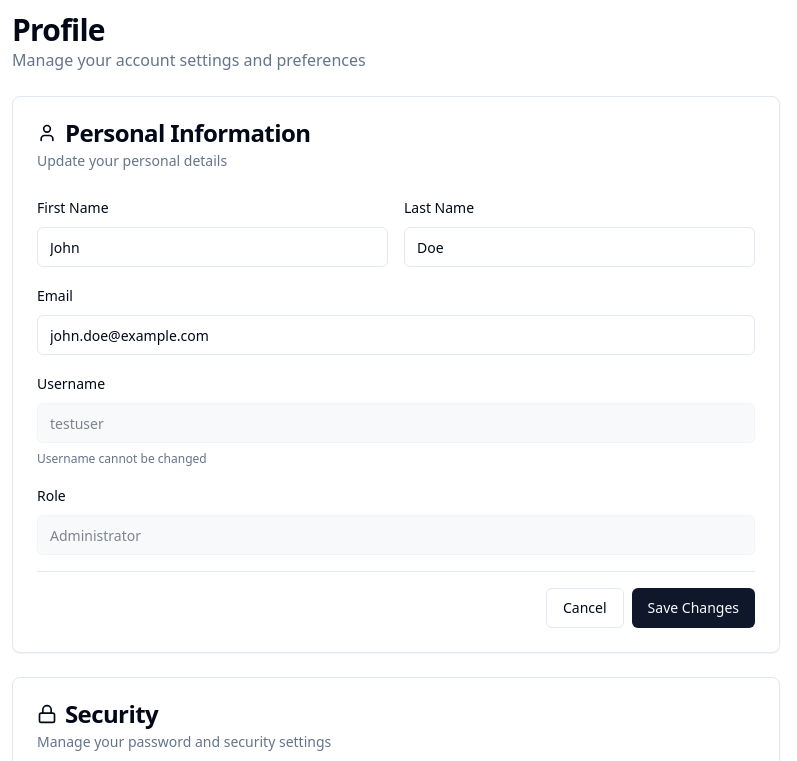
it: ProfilePage › validates email format
The image size is (797, 761).
Type "invalid-email" into the field labelled "Email".
click(396, 335); type("invalid-email")  # box [37,315,755,355]
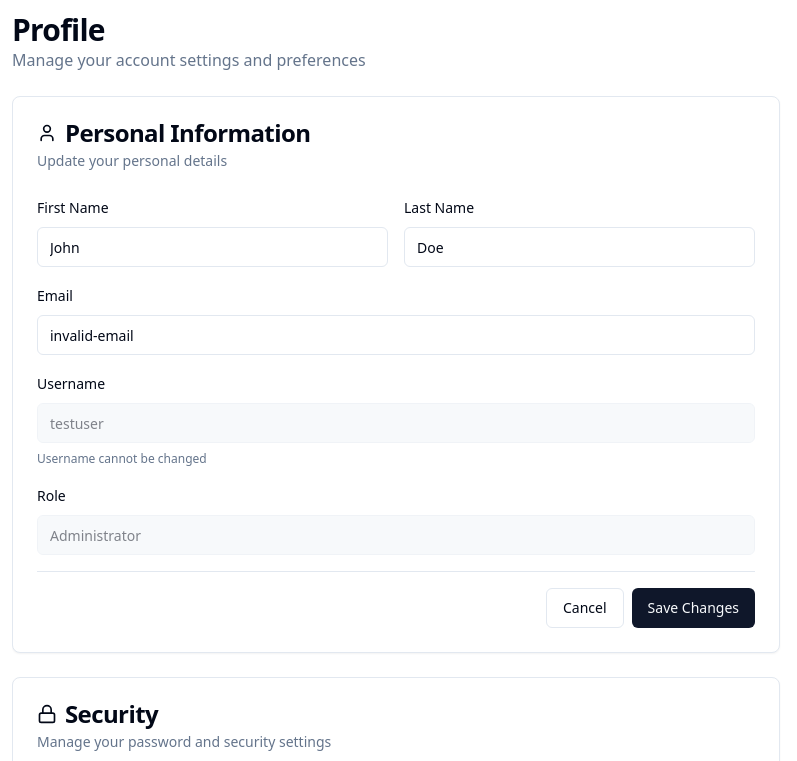
# Submit the form directly to bypass HTML5 validation
Submit the form labelled "Email", box [37,195,755,628]
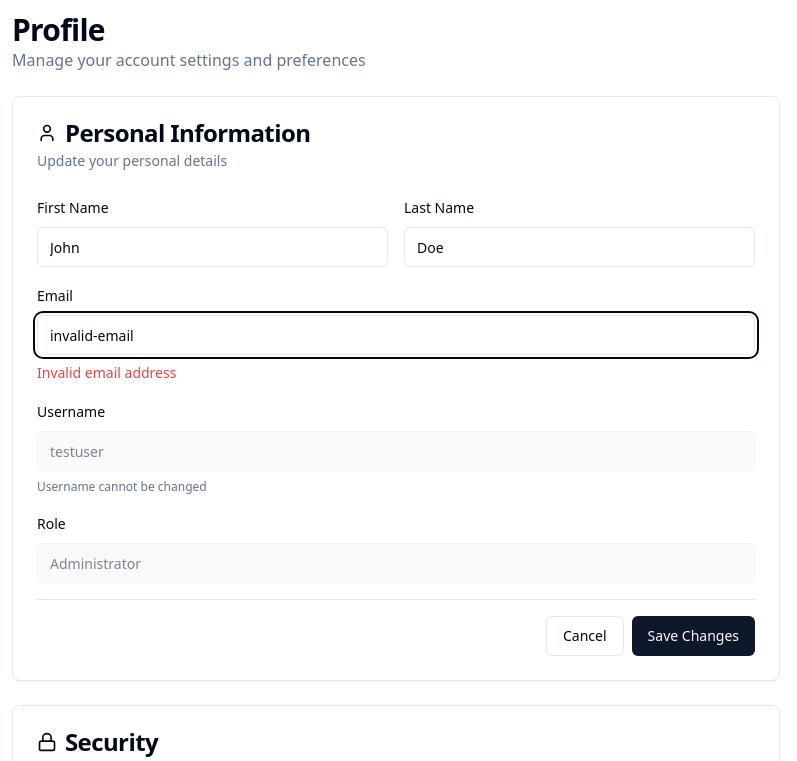
Expected: the text "Invalid email address" is shown, [37,363,176,382]
